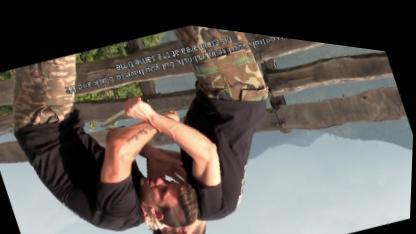knife: (91, 80, 158, 134)
